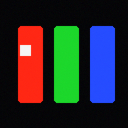1 square: (20, 45, 30, 55)
